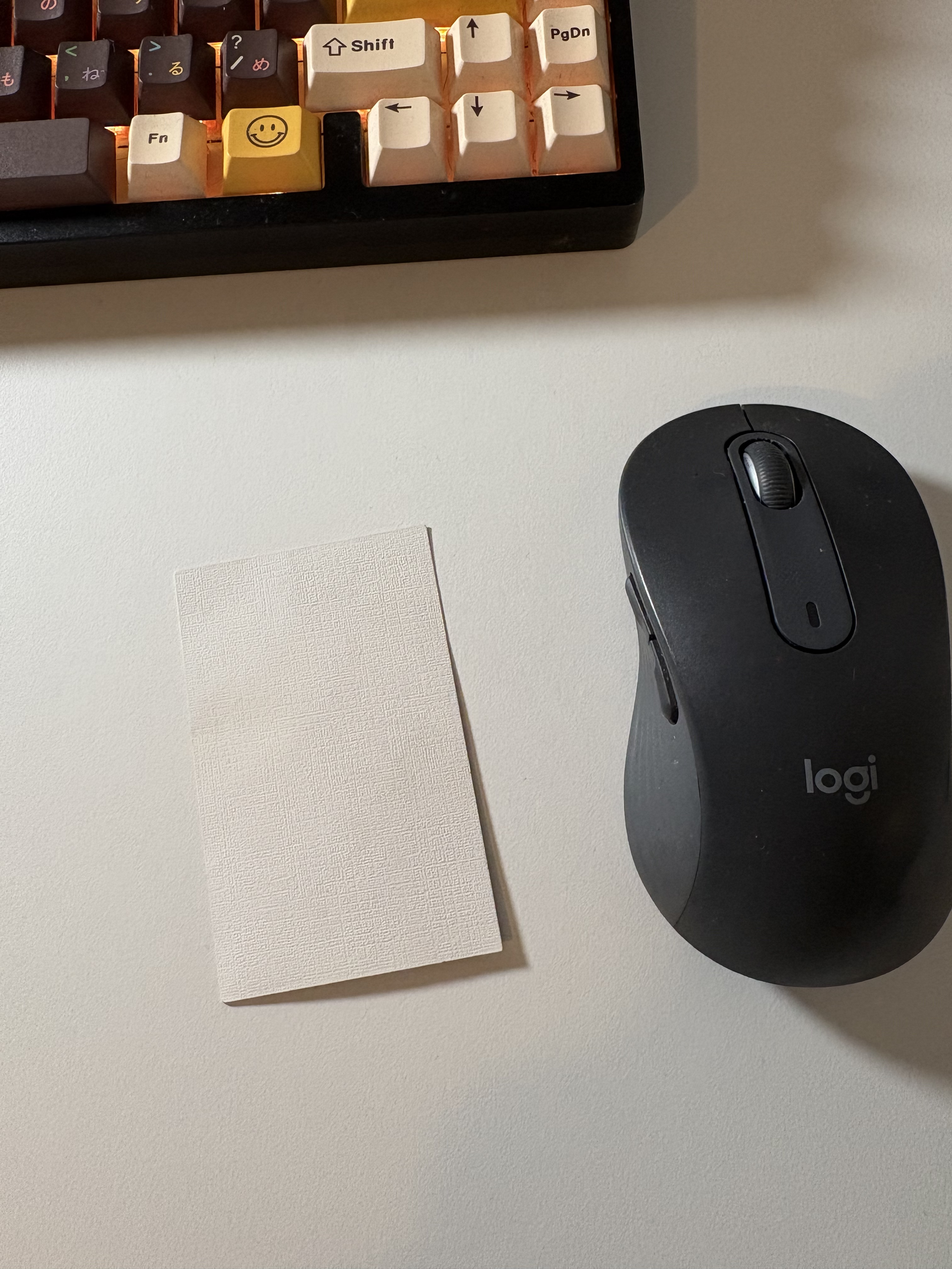paper: (167, 513, 510, 1007)
